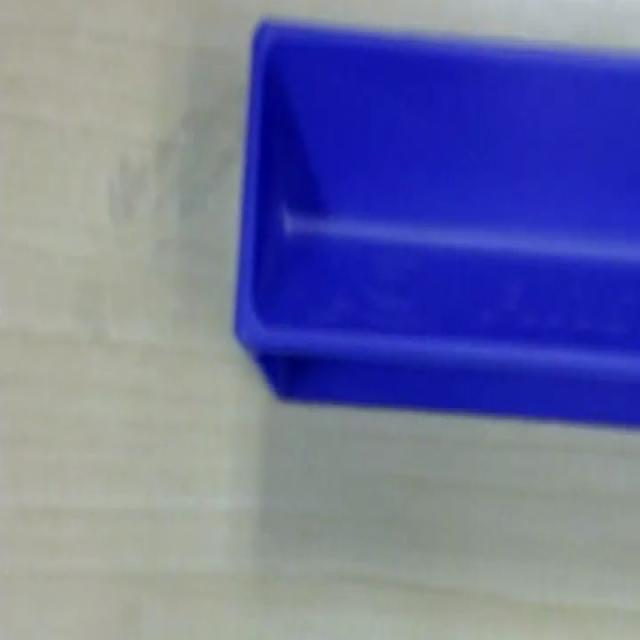blue_block: (232, 15, 638, 428)
